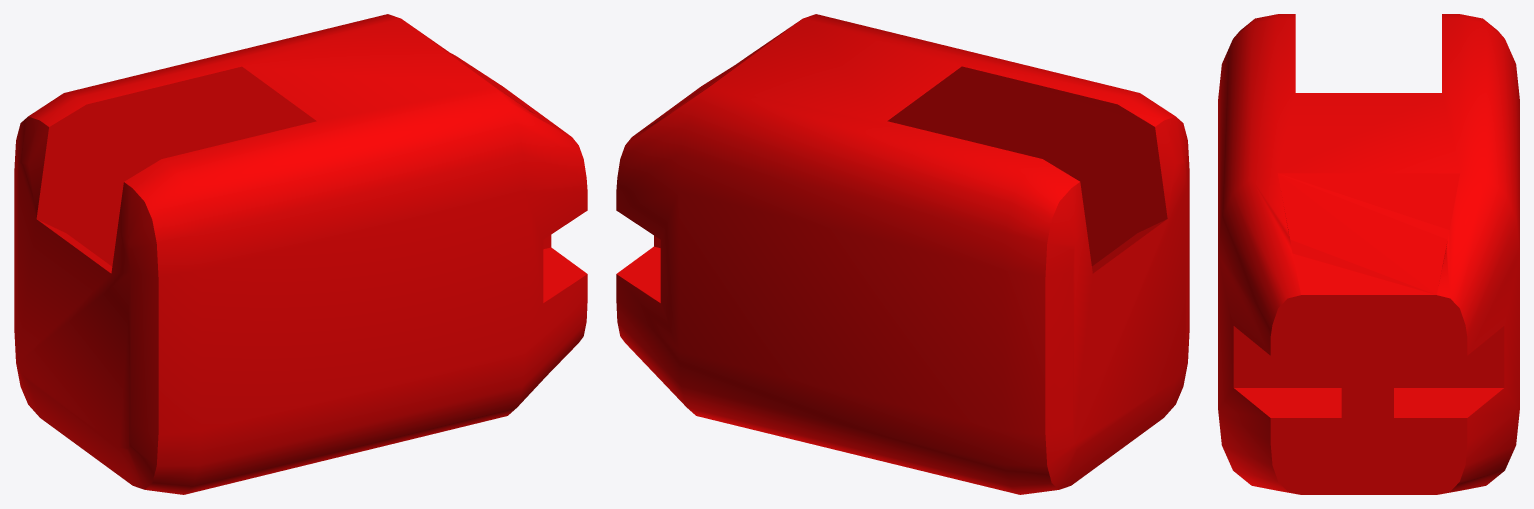
File: BidonGrande.fbx
The picture shows the model from 3 angles, left to right: view 1: azimuth 30°, elevation 25°; view 2: azimuth 150°, elevation 25°; view 3: azimuth 270°, elevation 25°; orthographic projection. The views are drawn at different scales.
Parts seen in each view (by area): view 1: Box001; view 2: Box001; view 3: Box001.
Boxes of the visible parts, box(x1,y1,x2,y2) form: Box001: box(14, 14, 587, 494); Box001: box(616, 14, 1189, 494); Box001: box(1218, 14, 1519, 494).
Bounding box in the file's own units: 10.35 × 6.92 × 5.96.
